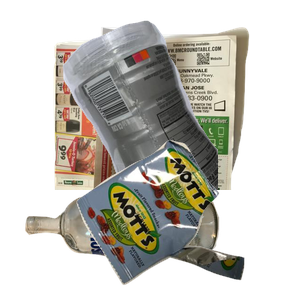glass: (22, 192, 234, 300)
paper: (51, 24, 291, 204)
plastic: (60, 18, 300, 198)
trash: (74, 137, 300, 300)
